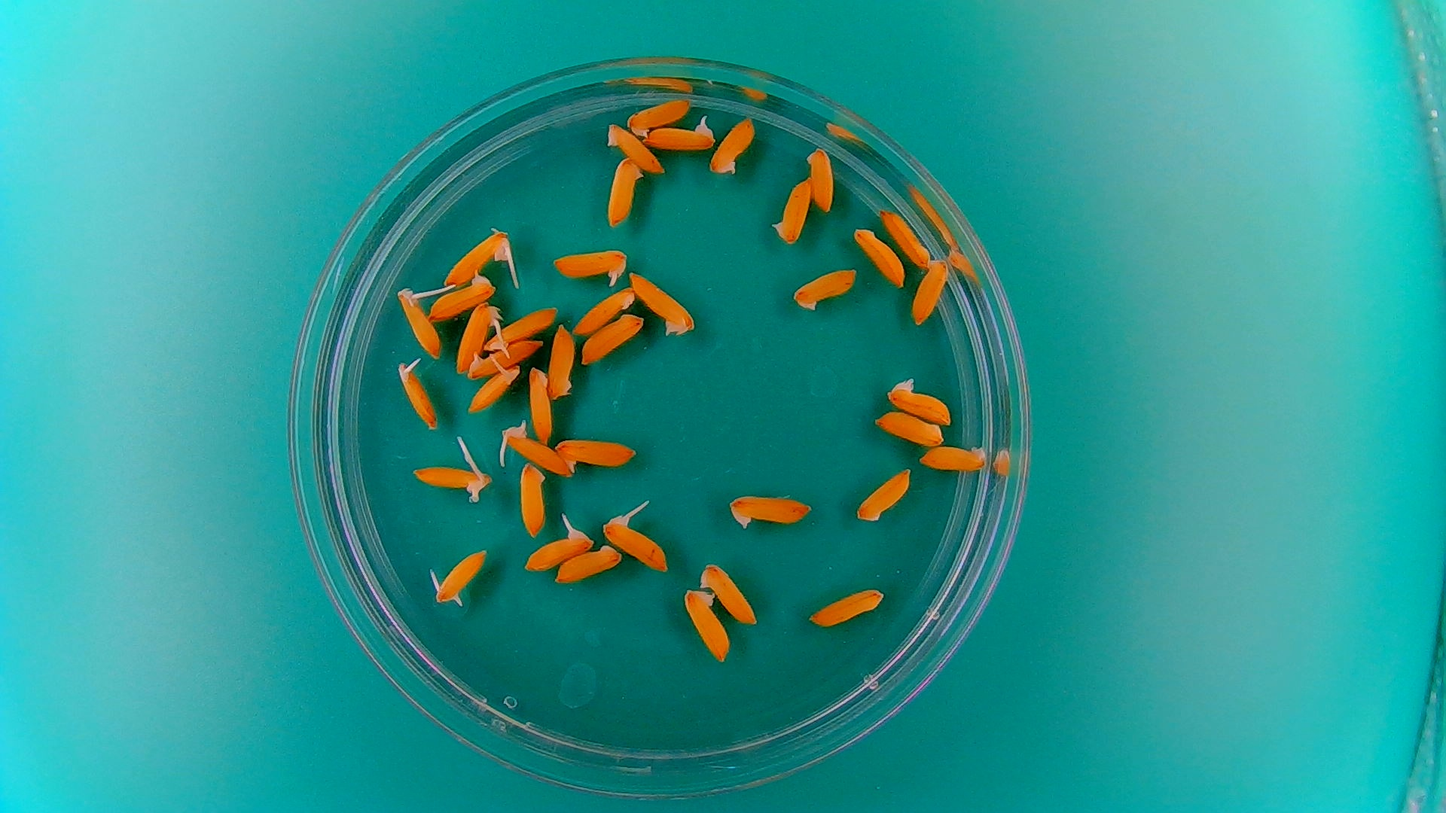no: (459, 332, 549, 391), (680, 584, 732, 665), (697, 558, 758, 626), (580, 310, 647, 366), (805, 584, 887, 629), (882, 374, 953, 425), (850, 224, 906, 288), (854, 464, 914, 523), (603, 120, 667, 174), (790, 264, 859, 314), (877, 206, 931, 268), (572, 284, 637, 335), (770, 172, 814, 245), (604, 155, 645, 229), (555, 542, 624, 585), (624, 95, 693, 137), (910, 253, 949, 325), (872, 408, 945, 446), (517, 460, 549, 540), (545, 321, 576, 400), (917, 440, 990, 473), (805, 142, 837, 212), (528, 364, 554, 444)
yes: (628, 267, 698, 339), (440, 226, 514, 288), (497, 420, 575, 477), (600, 516, 671, 574), (428, 544, 490, 608), (520, 518, 594, 571), (725, 489, 817, 531), (484, 306, 555, 359), (407, 461, 493, 504), (395, 283, 443, 358), (428, 271, 497, 321), (554, 432, 638, 473), (551, 245, 629, 288), (395, 355, 439, 431), (455, 300, 499, 375), (708, 113, 757, 177), (465, 364, 522, 413), (645, 115, 718, 152)
